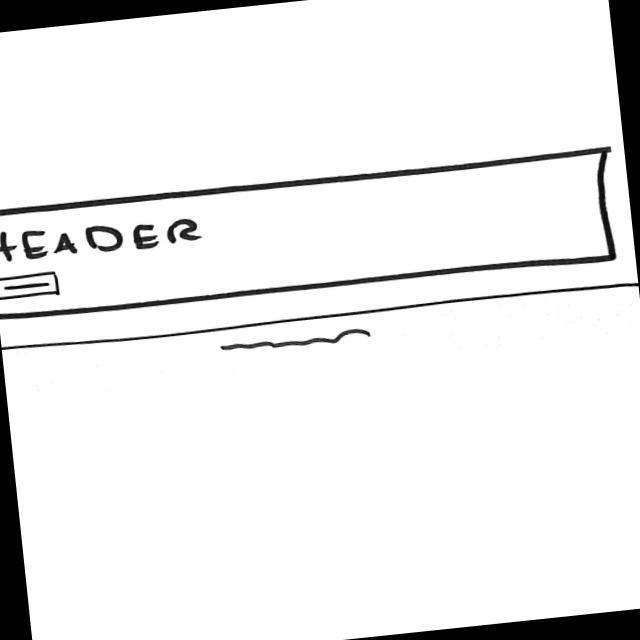container: (1, 142, 620, 328)
icon-button: (1, 268, 61, 303)
label: (1, 207, 204, 271)
text: (219, 327, 377, 358)
